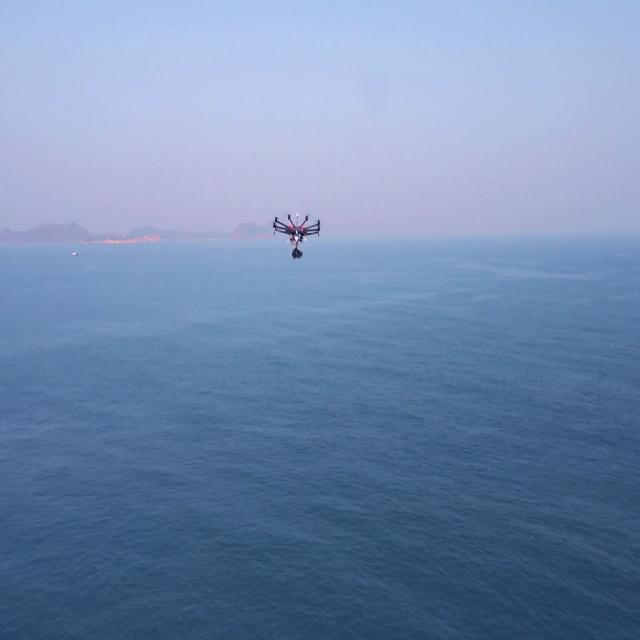drone: (266, 197, 330, 270)
